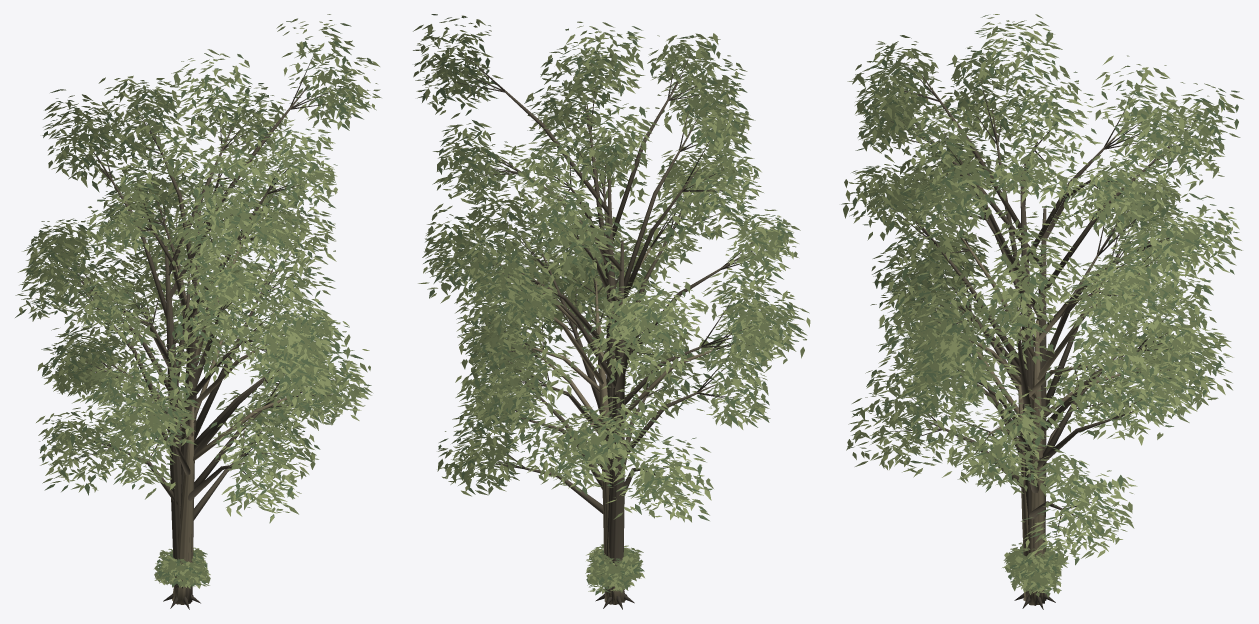
Rendered from environment.glb.
The picture shows the model from 3 angles, left to right: view 1: azimuth 30°, elevation 25°; view 2: azimuth 150°, elevation 25°; view 3: azimuth 270°, elevation 25°; orthographic projection. The views are drawn at different scales.
Parts seen in each view (by area): view 1: leaf_box_ironbark.001, leaf_box_ironbark.003, leaf_box_ironbark, leaf_box_ironbark.002, bark_ironbark_trunk.003, bark_ironbark_trunk, bark_ironbark_trunk.001, leaf_shrub.002, leaf_shrub, leaf_shrub.001, bark_box_limb.033, bark_box_limb.009; view 2: leaf_box_ironbark.001, leaf_box_ironbark, leaf_box_ironbark.003, leaf_box_ironbark.002, bark_ironbark_trunk.003, leaf_shrub.002, bark_ironbark_trunk.002, leaf_shrub.001, bark_ironbark_trunk.001, leaf_shrub, bark_box_limb.034, bark_box_limb.016 (+2 smaller); view 3: leaf_box_ironbark.001, leaf_box_ironbark, leaf_box_ironbark.003, leaf_box_ironbark.002, bark_ironbark_trunk.002, bark_ironbark_trunk.001, leaf_shrub.002, bark_ironbark_trunk.003, leaf_shrub.001, leaf_shrub, bark_ironbark_trunk, bark_box_limb.016.
Part boxes in pixels (bbox=[...]): leaf_box_ironbark.001: bbox=[18, 14, 381, 340]; leaf_box_ironbark.003: bbox=[15, 83, 354, 395]; leaf_box_ironbark: bbox=[36, 251, 372, 523]; leaf_box_ironbark.002: bbox=[37, 159, 339, 443]; bark_ironbark_trunk.003: bbox=[165, 246, 192, 604]; bark_ironbark_trunk: bbox=[173, 406, 194, 593]; bark_ironbark_trunk.001: bbox=[180, 205, 200, 587]; leaf_shrub.002: bbox=[154, 547, 210, 588]; leaf_shrub: bbox=[155, 550, 208, 588]; leaf_shrub.001: bbox=[155, 551, 209, 586]; bark_box_limb.033: bbox=[95, 154, 166, 319]; bark_box_limb.009: bbox=[194, 268, 273, 439]; leaf_box_ironbark.001: bbox=[413, 14, 763, 348]; leaf_box_ironbark: bbox=[437, 276, 810, 522]; leaf_box_ironbark.003: bbox=[432, 68, 800, 387]; leaf_box_ironbark.002: bbox=[418, 161, 795, 475]; bark_ironbark_trunk.003: bbox=[604, 241, 624, 604]; leaf_shrub.002: bbox=[586, 544, 644, 592]; bark_ironbark_trunk.002: bbox=[598, 325, 625, 604]; leaf_shrub.001: bbox=[585, 549, 643, 595]; bark_ironbark_trunk.001: bbox=[606, 179, 615, 604]; leaf_shrub: bbox=[589, 545, 642, 590]; bark_box_limb.034: bbox=[624, 126, 694, 292]; bark_box_limb.016: bbox=[612, 75, 682, 240]; leaf_box_ironbark.001: bbox=[841, 14, 1242, 348]; leaf_box_ironbark: bbox=[846, 233, 1232, 567]; leaf_box_ironbark.003: bbox=[855, 65, 1243, 419]; leaf_box_ironbark.002: bbox=[878, 158, 1233, 498]; bark_ironbark_trunk.002: bbox=[1023, 320, 1044, 604]; bark_ironbark_trunk.001: bbox=[1020, 173, 1043, 605]; leaf_shrub.002: bbox=[1002, 546, 1067, 591]; bark_ironbark_trunk.003: bbox=[1025, 208, 1046, 603]; leaf_shrub.001: bbox=[1004, 543, 1062, 597]; leaf_shrub: bbox=[1005, 542, 1061, 589]; bark_ironbark_trunk: bbox=[1018, 385, 1044, 605]; bark_box_limb.016: bbox=[922, 76, 1022, 234].
Size of the model in its own units: 11.72 by 18.06 by 11.25.
